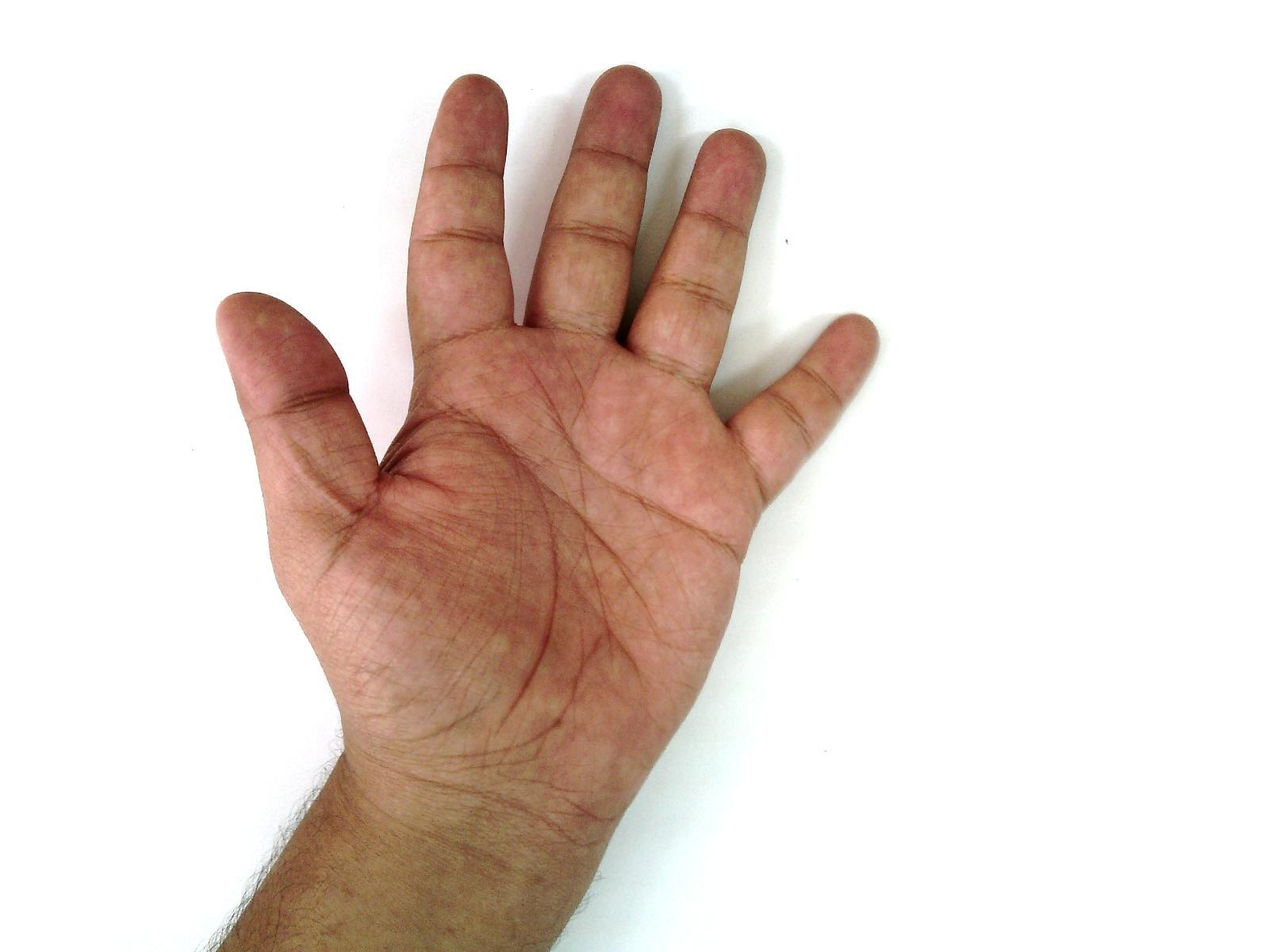open_palm: (213, 63, 880, 824)
